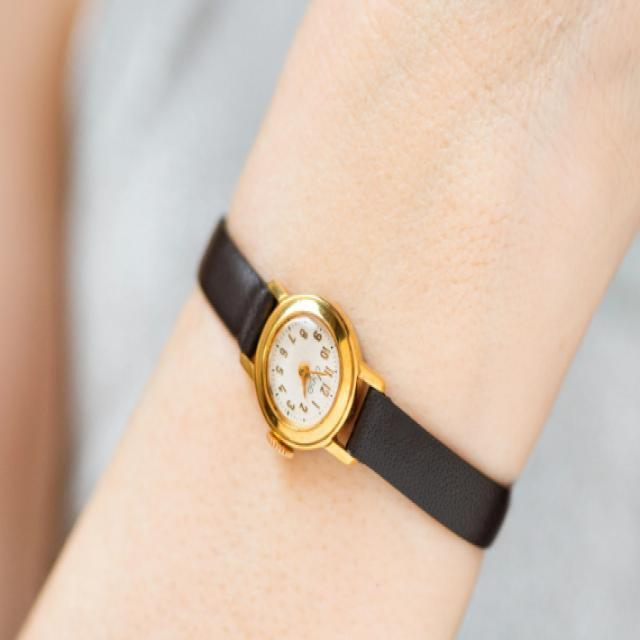Watch: (198, 219, 512, 549)
